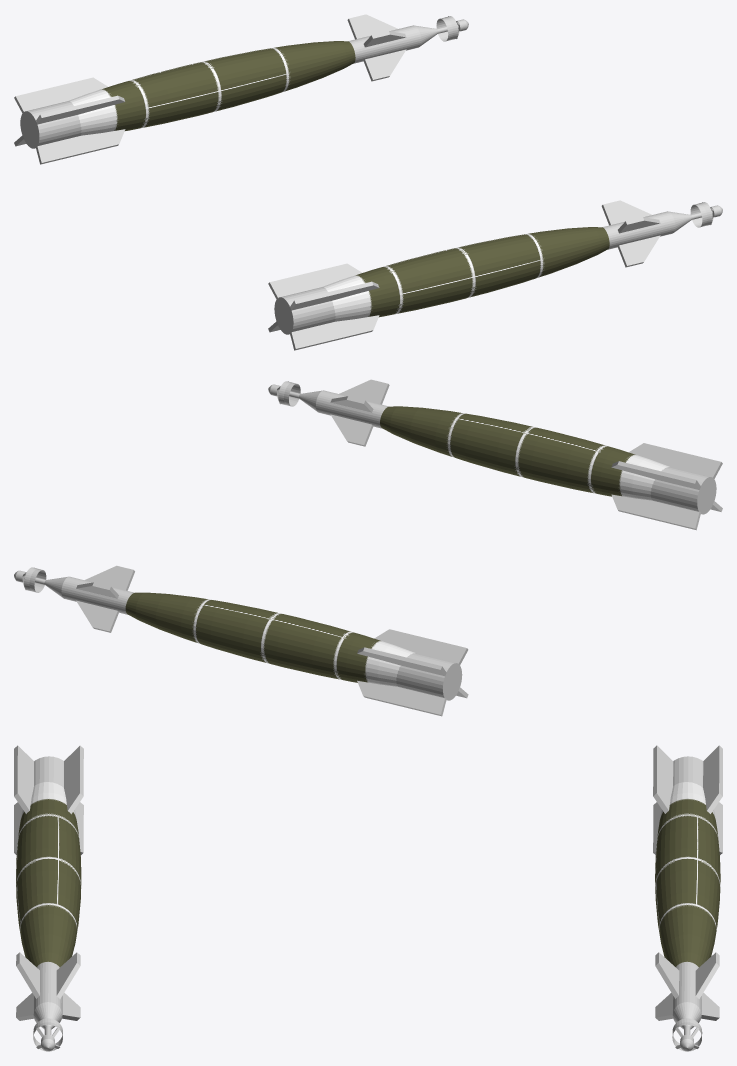
Rendered from f16gbu1023.glb.
The picture shows the model from 3 angles, top to bottom: view 1: azimuth 30°, elevation 25°; view 2: azimuth 150°, elevation 25°; view 3: azimuth 270°, elevation 25°; orthographic projection. The views are drawn at different scales.
Visible parts, largest first — view 1: 球.003, 球.001; view 2: 球.003, 球.001; view 3: 球.001, 球.003.
Boxes of the visible parts, x1,y1,x2,y2 form: 球.003: (268,200,722,350); 球.001: (14,14,468,164); 球.003: (268,379,722,530); 球.001: (14,565,468,716); 球.001: (653,745,722,1051); 球.003: (14,745,83,1051).
Size of the model in its own units: 4.24 by 0.4634 by 4.7.
Materials: 1 (1 with a texture image).
